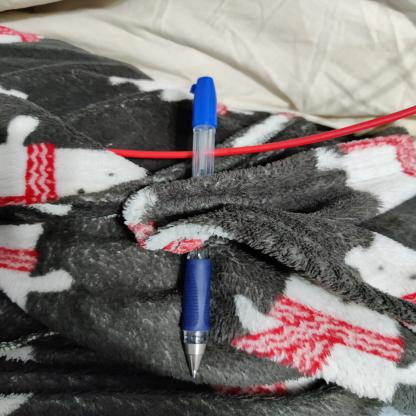Pen: (184, 75, 224, 381)
